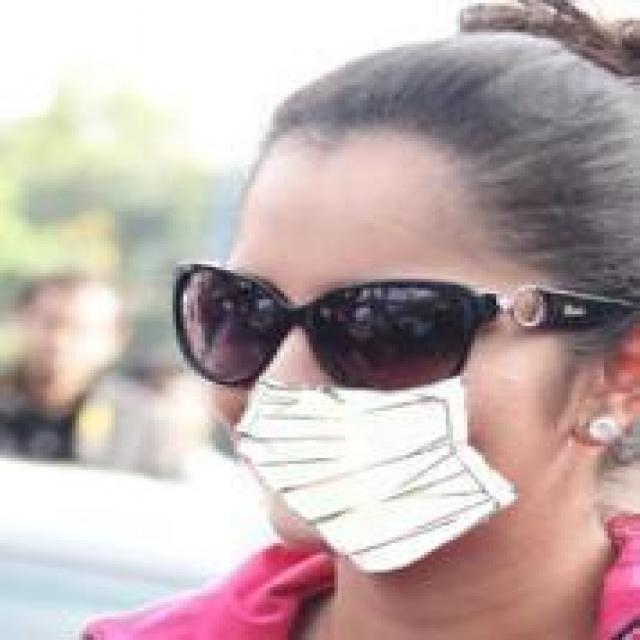mask: (194, 74, 619, 578)
